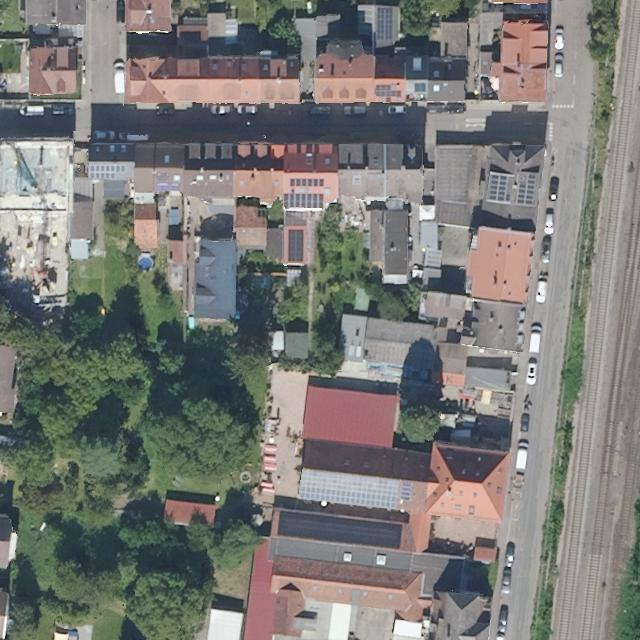PV: (296, 467, 400, 511), (278, 190, 324, 215), (482, 169, 512, 205), (83, 160, 128, 183), (515, 170, 539, 210), (375, 5, 396, 41), (286, 227, 305, 263), (288, 174, 327, 189), (374, 82, 403, 99), (397, 480, 414, 503), (413, 82, 428, 94)
